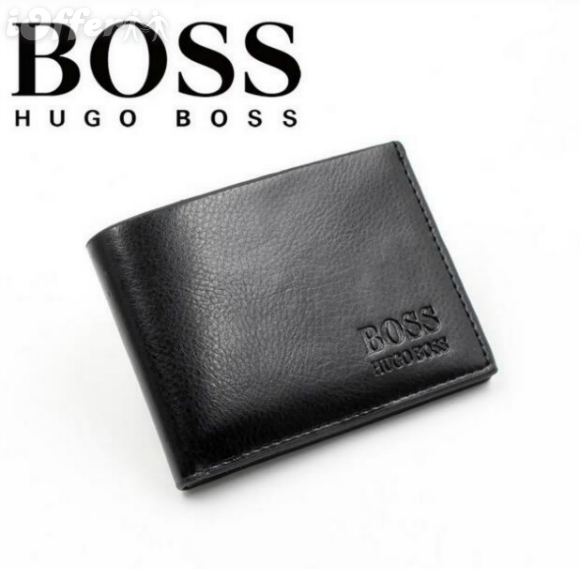monedero: (83, 139, 501, 493)
